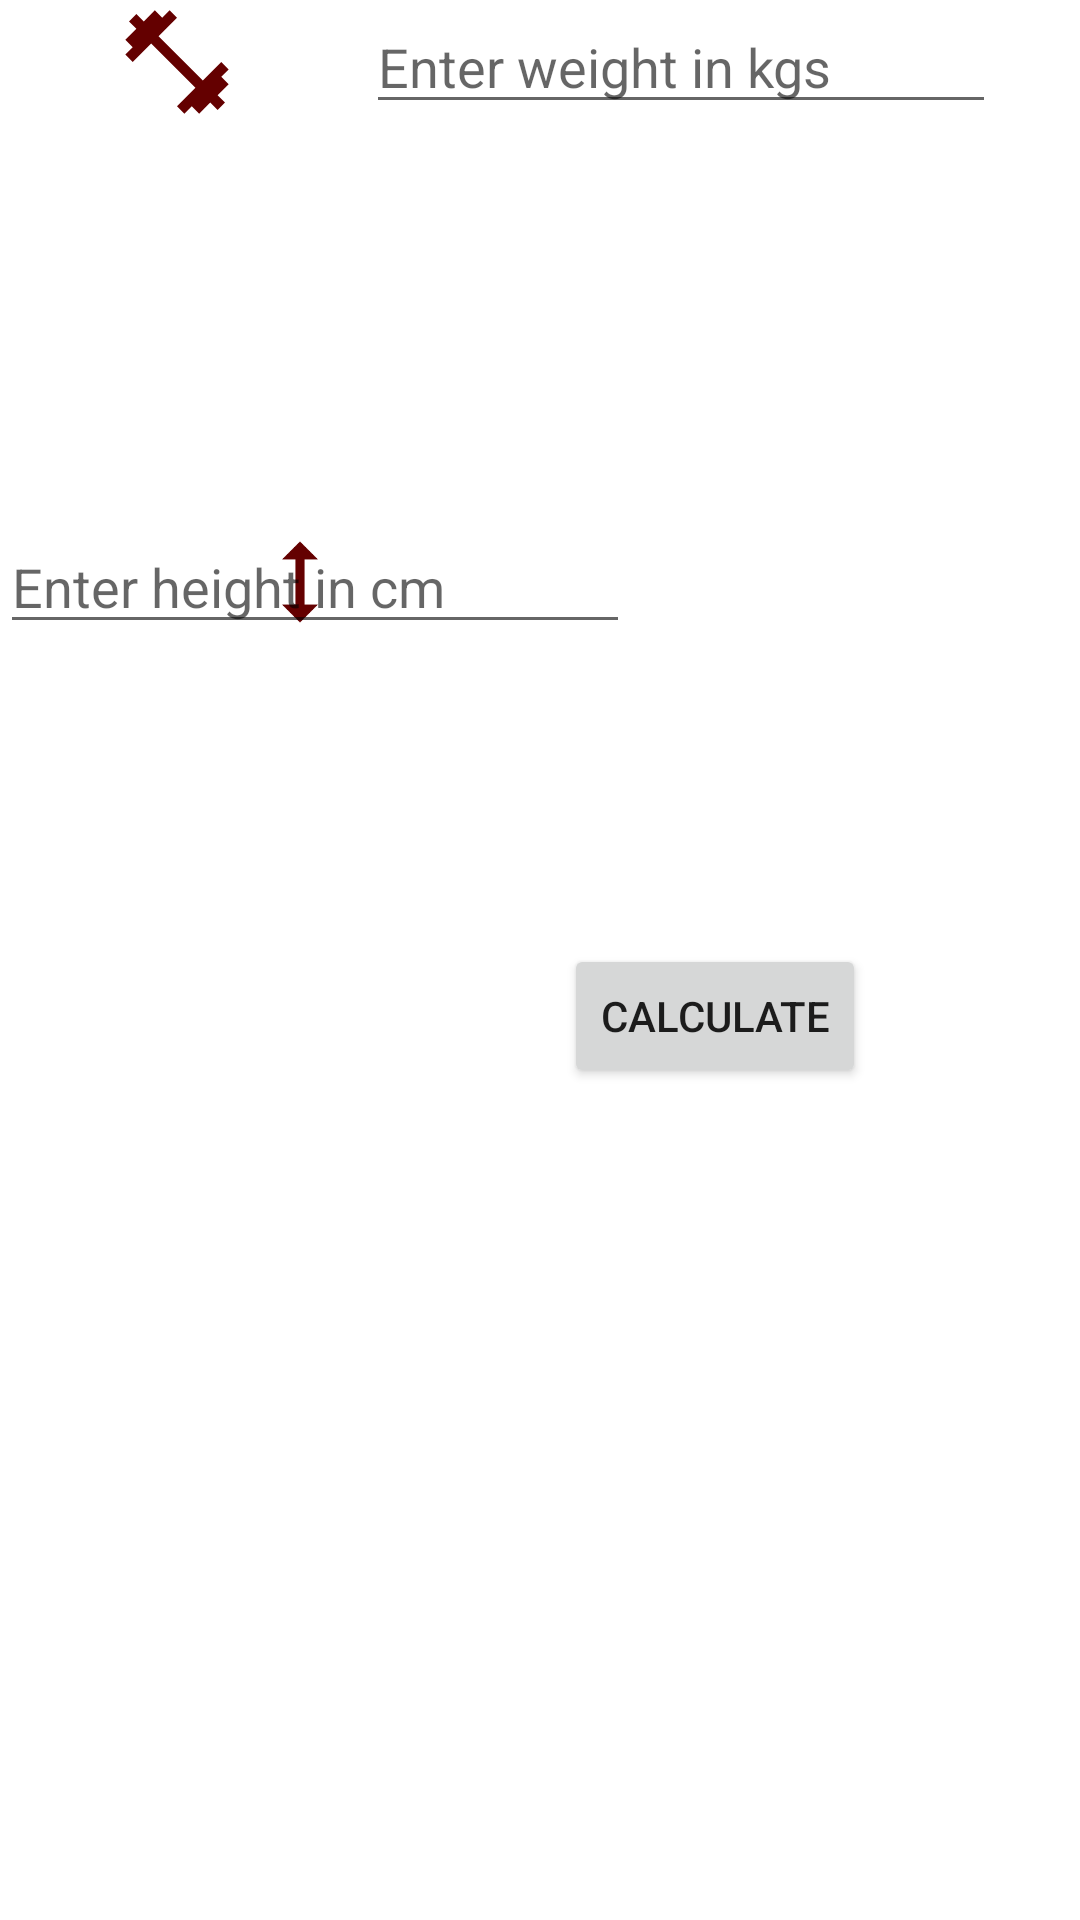

Where to tap for icons on this 1080px x 1920px app screen, as (x,y):
fitness center: (177,62)
